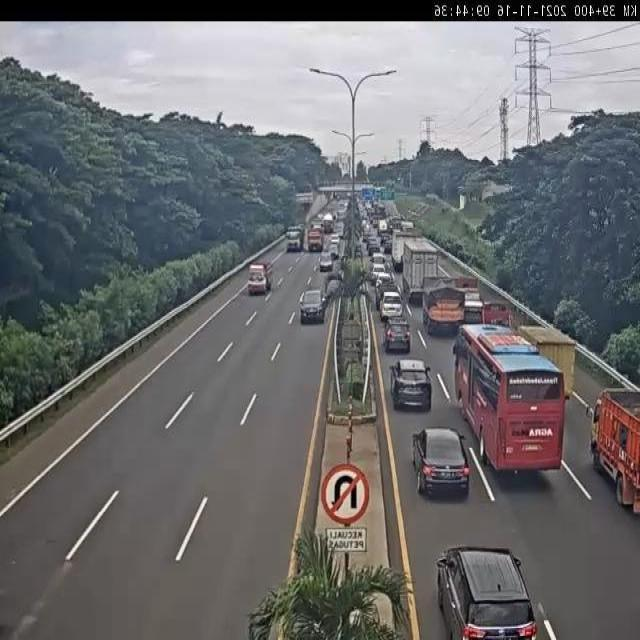Bus: (450, 320, 568, 478)
Car: (436, 546, 536, 639), (412, 426, 471, 499), (389, 359, 431, 410), (383, 319, 412, 354), (298, 289, 326, 324), (379, 292, 403, 324), (374, 272, 395, 291), (371, 262, 387, 280), (319, 252, 333, 272), (384, 237, 396, 255), (329, 243, 340, 260), (329, 232, 341, 246), (380, 229, 390, 243)
Truck: (584, 381, 640, 514), (515, 324, 580, 401), (402, 235, 442, 303), (421, 274, 466, 334), (455, 273, 488, 321), (390, 228, 419, 273), (246, 261, 273, 296), (481, 300, 511, 328), (285, 222, 306, 254), (307, 227, 325, 252), (322, 212, 334, 234), (377, 218, 388, 235)
